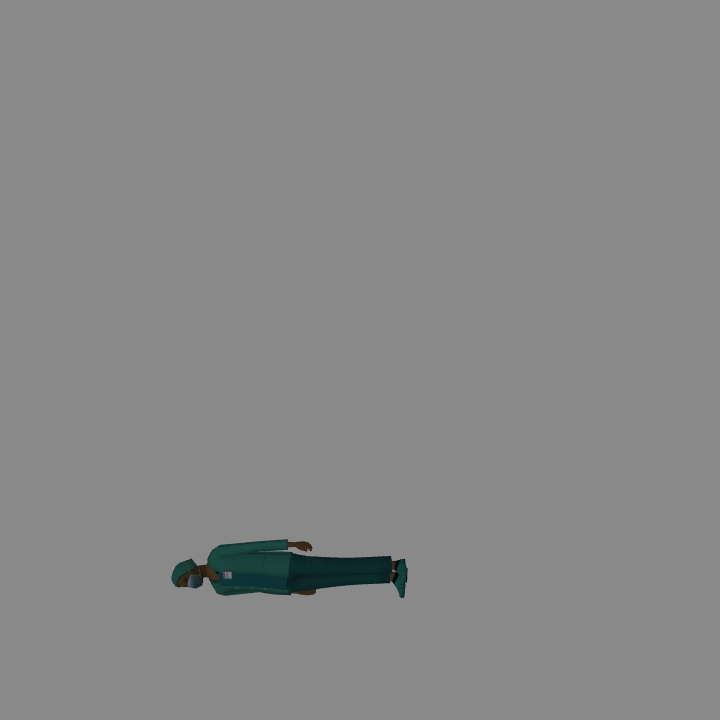victim: (174, 538, 408, 597)
